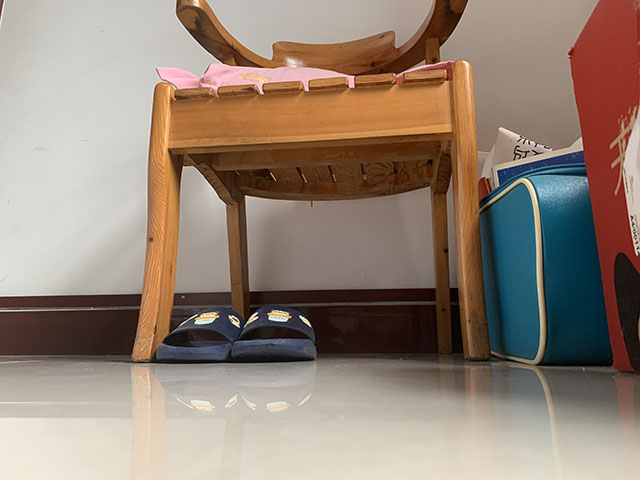slippers: (154, 308, 238, 362), (238, 309, 322, 363)
stool: (128, 1, 493, 363)
